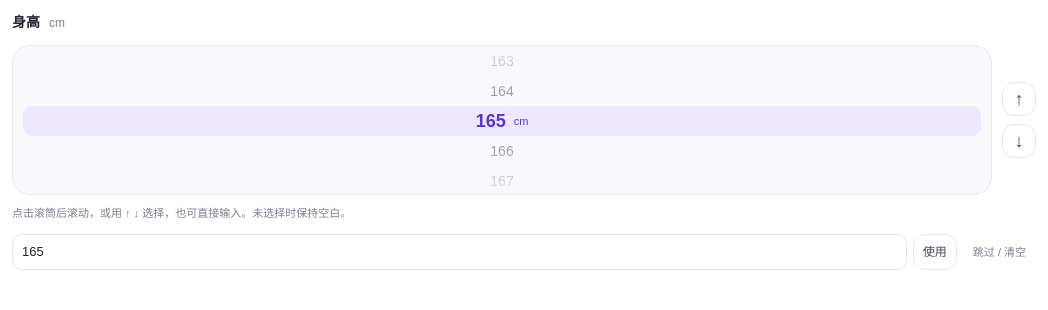
it: 资料滚筒控件 › 非法输入 0 显示就近错误且不改变原值
Replace the text in the field with "0": (459, 252) [12,234,907,270]
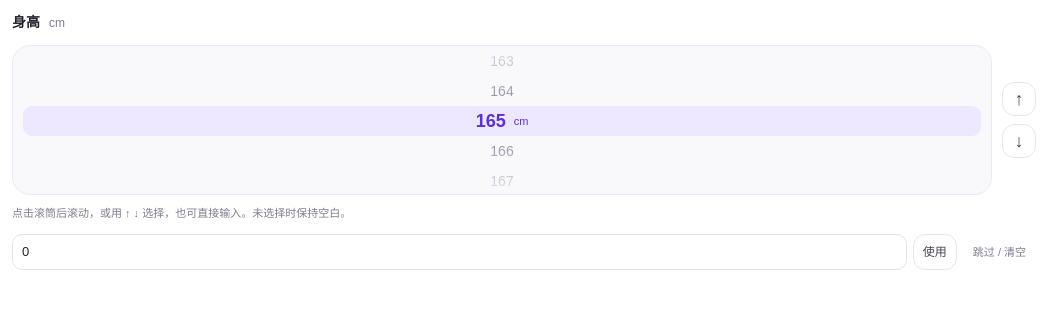
Leave the field, box [12,234,907,270]
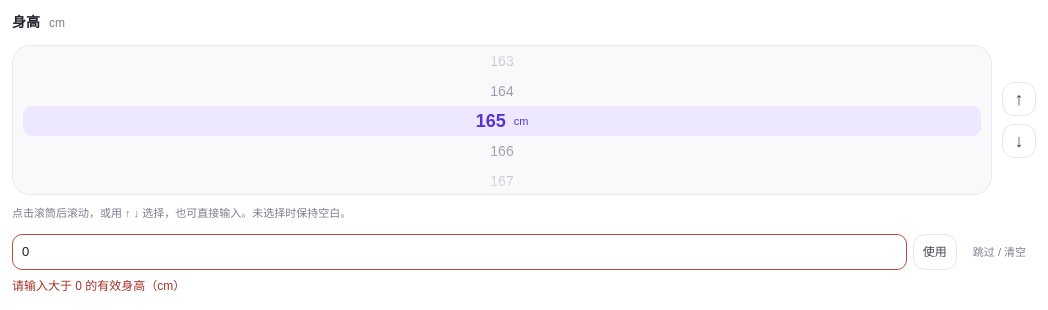
Expected: the message shows "有效身高", [12,279,185,293]
